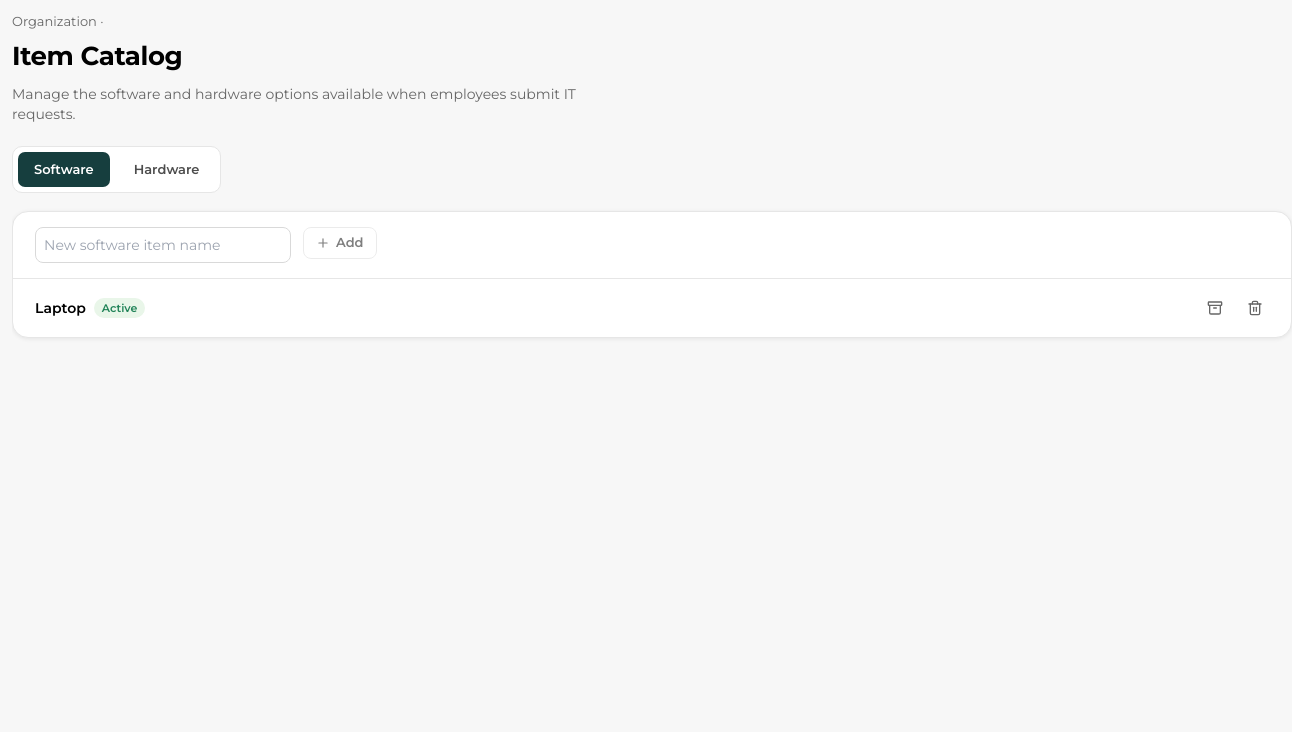
Test: shows an empty state per tab, and switching to Hardware refilters without refetching
Check: the text "Laptop" is shown, box [35,298,86,318]
What coordinates should you click on to do the following:
click the button "Hardware"
I would click on:
 (166, 169)
Its box is [118,152,215,187].
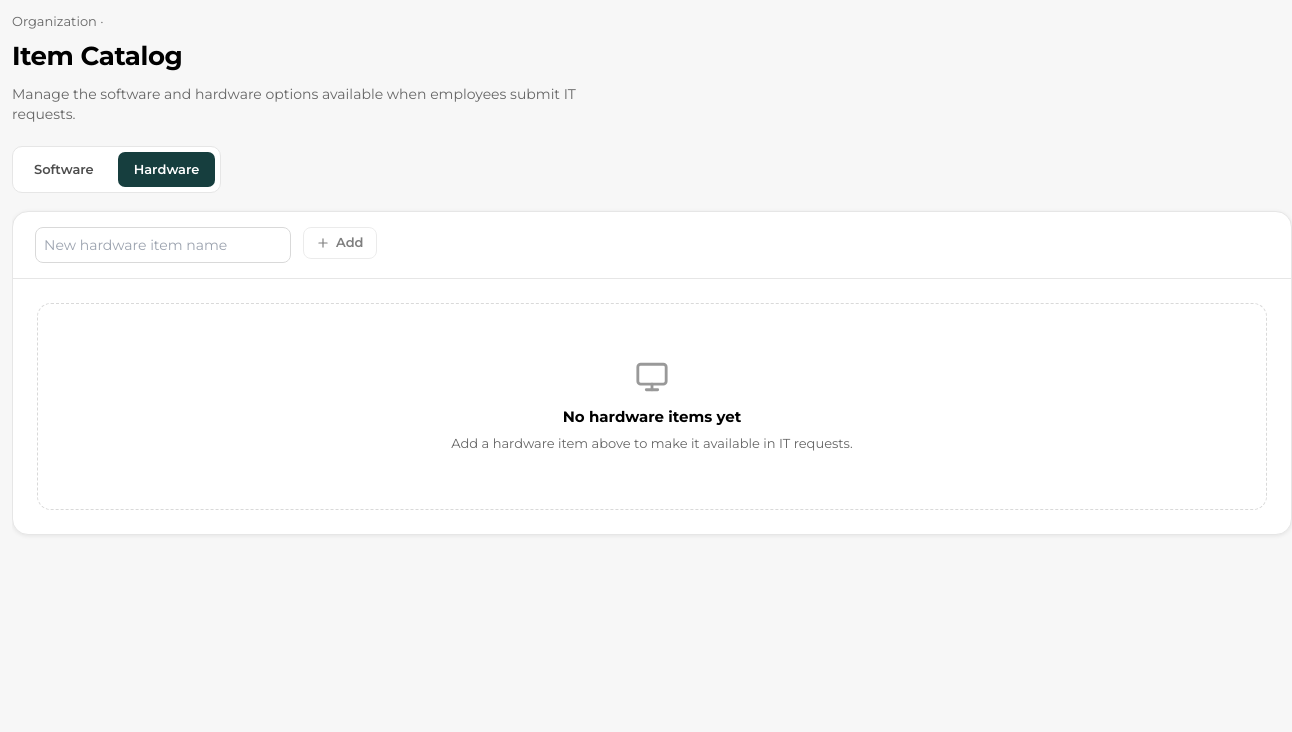
Check: the text "No hardware items yet" is shown, box [563,407,741,426]
